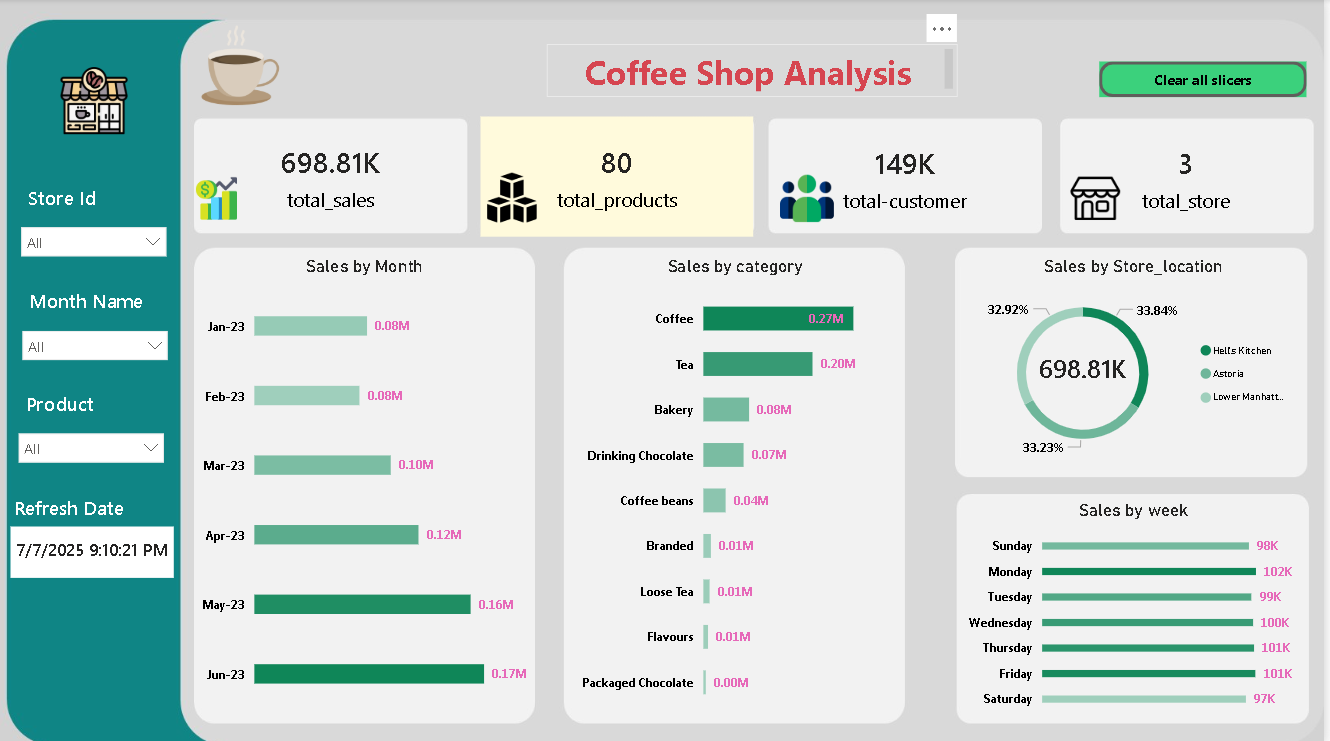

This screenshot's page, from the dashboard's own definition file:
{"tool":"powerbi","page":{"name":"Page 2","canvas":[1280,720],"ordinal":1},"visuals":[{"type":"card","fields":{"Values":["all mesaures.total_sales"]},"box":[190.6,113.4,260.6,115.8],"z":0},{"type":"slicer","fields":{"Values":["Transactions.store_id"]},"box":[11.8,210,160.5,44.6],"z":0,"group":"g2"},{"type":"slicer","fields":{"Values":["clander.Month name"]},"box":[13.3,309.8,160.5,44.6],"z":0,"group":"g3"},{"type":"slicer","fields":{"Values":["Transactions.product_type"]},"box":[9.7,409.6,160.5,44.6],"z":0,"group":"g4"},{"type":"card","fields":{"Values":["Min(Transactions.Refresh data)"]},"box":[12.4,509,157.7,49.6],"z":0,"group":"g5"},{"type":"textbox","title":"Store Id","box":[23.9,178.6,129.1,31.4],"z":1000,"group":"g2"},{"type":"clusteredBarChart","title":"Sales by Month","fields":{"Category":["clander.Month name"],"Y":["all mesaures.total_sales"]},"box":[190.6,247.3,326.9,447.6],"z":1000},{"type":"textbox","title":"Month Name","box":[25.4,278.4,129.1,31.4],"z":1000,"group":"g3"},{"type":"textbox","title":"Product","box":[21.8,378.2,129.1,31.4],"z":1000,"group":"g4"},{"type":"group","id":"g1","title":"Group 1","box":[10.9,477.8,154.1,31.5],"z":1000,"group":"g5"},{"type":"textbox","title":"Refresh Date","box":[10.9,477.8,154.1,31.5],"z":1000,"group":"g1"},{"type":"clusteredBarChart","title":"Sales by category","fields":{"Category":["Transactions.product_category"],"Y":["all mesaures.total_sales"]},"box":[555,247.3,313.7,447.6],"z":2000},{"type":"donutChart","title":"Sales by Store_location","fields":{"Category":["Transactions.store_location"],"Y":["all mesaures.total_sales"]},"box":[929,247.3,334.2,208.7],"z":3000},{"type":"clusteredBarChart","title":"Sales by week","fields":{"Category":["clander.week name"],"Y":["all mesaures.total_sales"]},"box":[929,482.6,334.2,212.3],"z":4000},{"type":"card","fields":{"Values":["all mesaures.total_products"]},"box":[465.7,113.4,263,115.8],"z":5000},{"type":"card","fields":{"Values":["all mesaures.total-customer"]},"box":[749.2,123.1,252.1,97.7],"z":6000},{"type":"card","fields":{"Values":["all mesaures.total_store"]},"box":[1030.3,123.1,232.8,97.7],"z":7000},{"type":"card","fields":{"Values":["all mesaures.total_sales"]},"box":[961.9,304.6,171.5,105.7],"z":8000},{"type":"image","box":[161.7,163.6,98.9,56.7],"z":9000},{"type":"image","box":[451.2,163,89.3,57.9],"z":10000},{"type":"image","box":[666,161.2,229.2,61.5],"z":11000},{"type":"image","box":[1030.3,152.8,57.9,78.4],"z":12000},{"type":"textbox","box":[529.6,43.4,396.9,50.7],"z":13000},{"type":"actionButton","box":[1063.5,60.4,200.3,34.3],"z":14000},{"type":"group","id":"g2","title":"Group 1","box":[11.8,178.6,160.5,76],"z":15000},{"type":"group","id":"g3","title":"Group 1","box":[13.3,278.4,160.5,76],"z":16000},{"type":"group","id":"g4","title":"Group 1","box":[9.7,378.2,160.5,76],"z":17000},{"type":"group","id":"g5","title":"Group 2","box":[10.9,477.8,159.3,80.8],"z":18000},{"type":"image","box":[190.6,0,86.9,127.9],"z":18001},{"type":"image","box":[55.5,16.9,74.8,161.7],"z":18002}]}

Visuals, with their boxes in screenshot pixels (x1, y1, x2, y2), scaled from the page's 1280x720 canvas onto the 1330x741 screenshot:
card - all mesaures.total_sales: [198, 117, 469, 236]
slicer - Transactions.store_id: [12, 216, 179, 262]
slicer - clander.Month name: [14, 319, 181, 365]
slicer - Transactions.product_type: [10, 422, 177, 467]
card - Min(Transactions.Refresh data): [13, 524, 177, 575]
"Store Id" textbox: [25, 184, 159, 216]
"Sales by Month" clusteredBarChart: [198, 255, 538, 715]
"Month Name" textbox: [26, 287, 161, 319]
"Product" textbox: [23, 389, 157, 422]
"Group 1" group: [11, 492, 171, 524]
"Refresh Date" textbox: [11, 492, 171, 524]
"Sales by category" clusteredBarChart: [577, 255, 903, 715]
"Sales by Store_location" donutChart: [965, 255, 1313, 469]
"Sales by week" clusteredBarChart: [965, 497, 1313, 715]
card - all mesaures.total_products: [484, 117, 757, 236]
card - all mesaures.total-customer: [778, 127, 1040, 227]
card - all mesaures.total_store: [1071, 127, 1312, 227]
card - all mesaures.total_sales: [999, 313, 1178, 422]
image: [168, 168, 271, 227]
image: [469, 168, 562, 227]
image: [692, 166, 930, 229]
image: [1071, 157, 1131, 238]
textbox: [550, 45, 963, 97]
actionButton: [1105, 62, 1313, 97]
"Group 1" group: [12, 184, 179, 262]
"Group 1" group: [14, 287, 181, 365]
"Group 1" group: [10, 389, 177, 467]
"Group 2" group: [11, 492, 177, 575]
image: [198, 0, 288, 132]
image: [58, 17, 135, 184]
